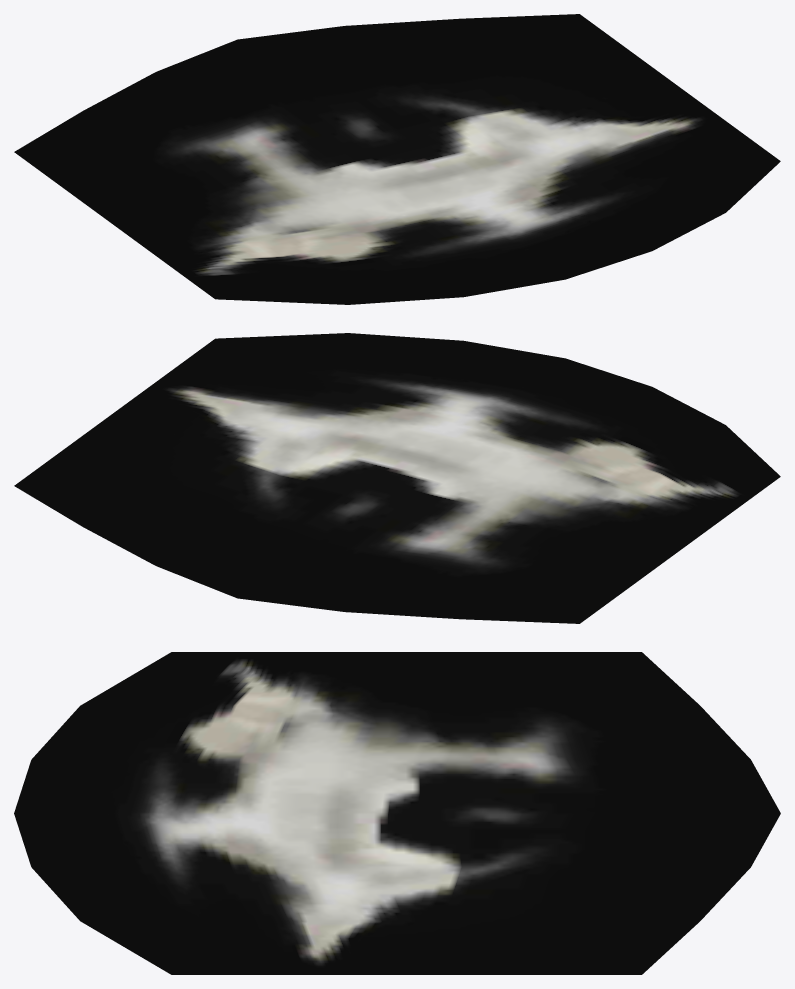
The model's file is 0479_xiyiwang_smoke01.glb.
3 views of the same model, one above another, from view 1: azimuth 30°, elevation 25°; view 2: azimuth 150°, elevation 25°; view 3: azimuth 270°, elevation 25° (orthographic). The views are drawn at different scales.
Bounding box in the file's own units: 2.19 × 1.35e-16 × 2.2.
1 material, 1 textured.
